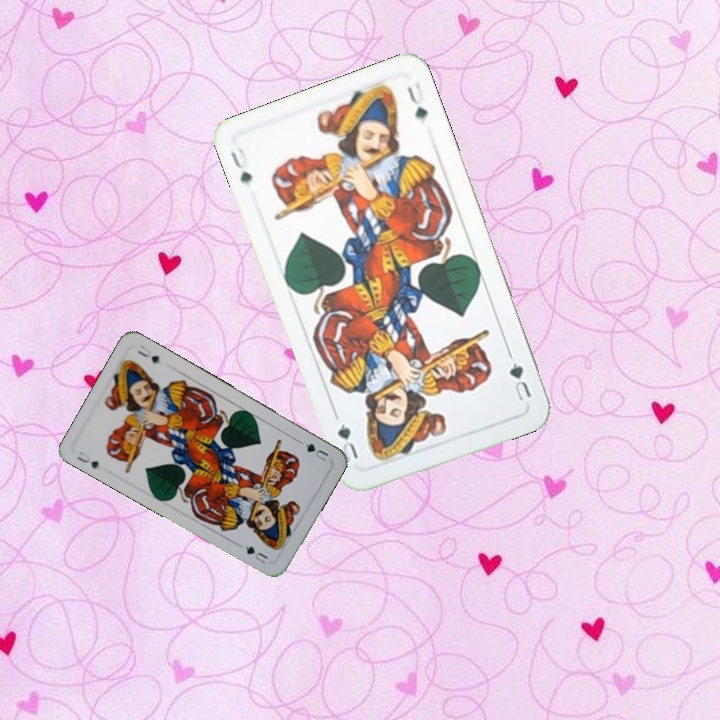GU: (505, 358, 535, 404), (226, 143, 255, 186), (301, 439, 331, 464), (72, 447, 101, 471)
